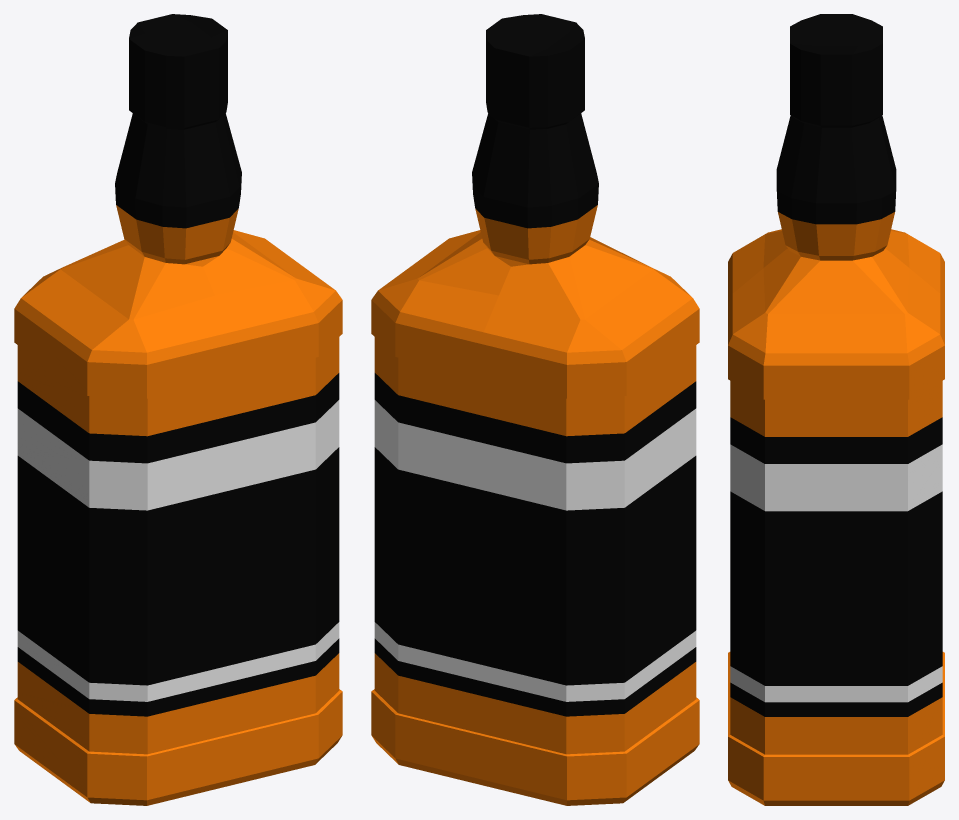
File: Whiskey_01.fbx
3 views of the same model, side by side, from view 1: azimuth 30°, elevation 25°; view 2: azimuth 150°, elevation 25°; view 3: azimuth 270°, elevation 25° (orthographic).
Parts seen in each view (by area): view 1: Whiskey_01; view 2: Whiskey_01; view 3: Whiskey_01.
Part boxes in pixels (x1=…): Whiskey_01: x1=14, y1=14, x2=342, y2=805; Whiskey_01: x1=371, y1=14, x2=699, y2=805; Whiskey_01: x1=728, y1=14, x2=944, y2=805.
Bounding box in the file's own units: 8.76 × 23.37 × 6.46.
